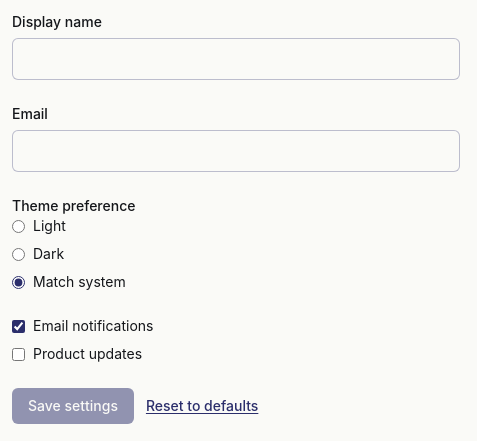
Scenario: SettingsForm › clears a modified field back to its default on reset
Type "Someone Else" into the field labelled "Display name" at (236, 59), box [12, 38, 460, 80]
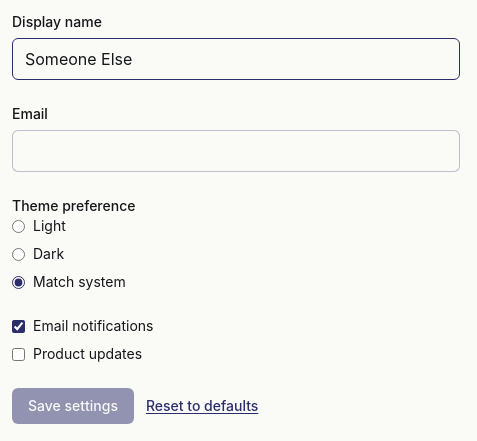
Click the button "Reset to defaults" at (202, 406), box [146, 396, 258, 416]
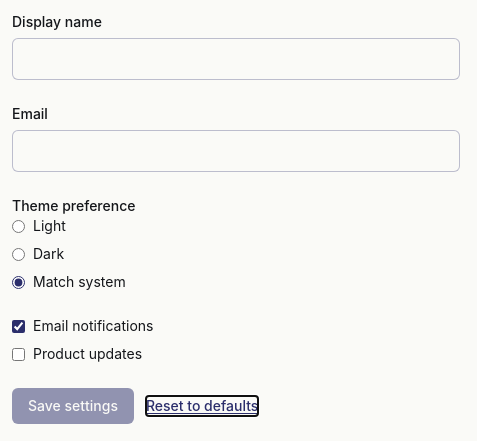
Expected: the field labelled "Display name" is empty, [12, 38, 460, 80]
